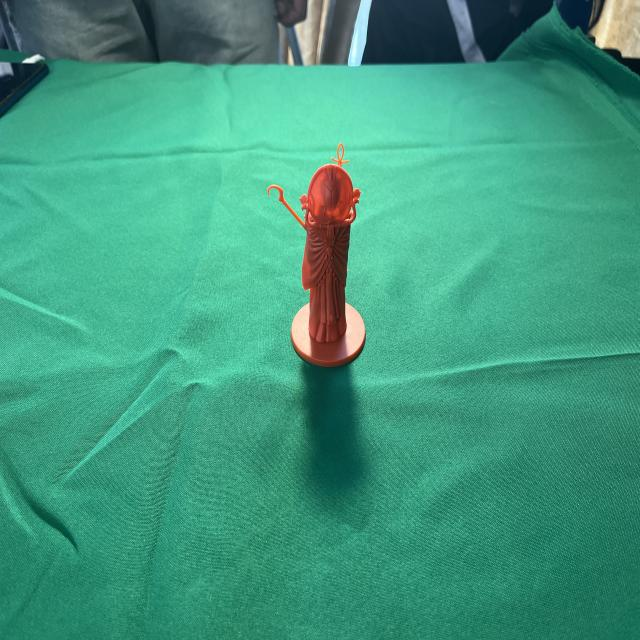amon: (264, 139, 373, 373)
